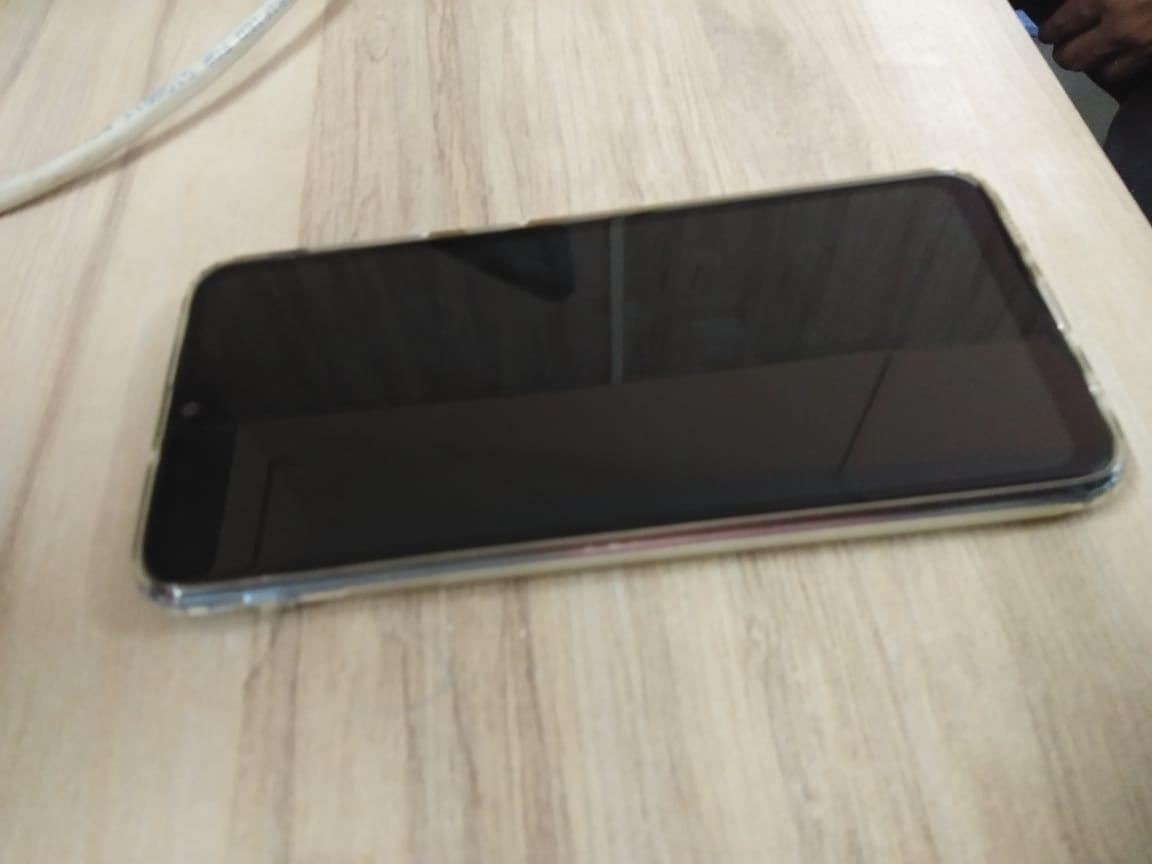Phone: (110, 142, 1142, 646)
